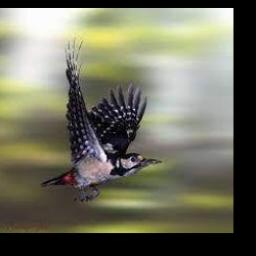Woodpecker: (40, 37, 162, 201)
